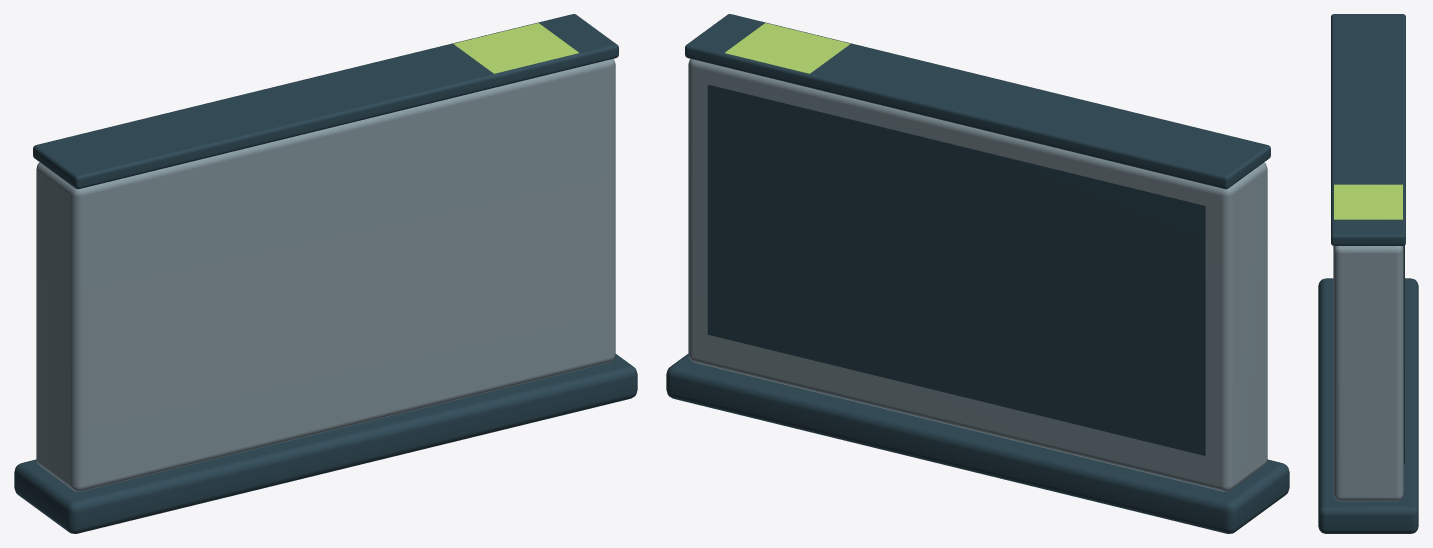
The model's file is d07_sign_island_02.glb.
The picture shows the model from 3 angles, left to right: view 1: azimuth 30°, elevation 25°; view 2: azimuth 150°, elevation 25°; view 3: azimuth 270°, elevation 25°; orthographic projection. The views are drawn at different scales.
Parts seen in each view (by area): view 1: D07SignIsland02_Mesh; view 2: D07SignIsland02_Mesh; view 3: D07SignIsland02_Mesh.
Boxes of the visible parts, x1=… form: D07SignIsland02_Mesh: x1=14, y1=14, x2=637, y2=533; D07SignIsland02_Mesh: x1=666, y1=14, x2=1289, y2=533; D07SignIsland02_Mesh: x1=1318, y1=14, x2=1418, y2=533.
Size of the model in its own units: 4.4 by 2.6 by 0.8.
